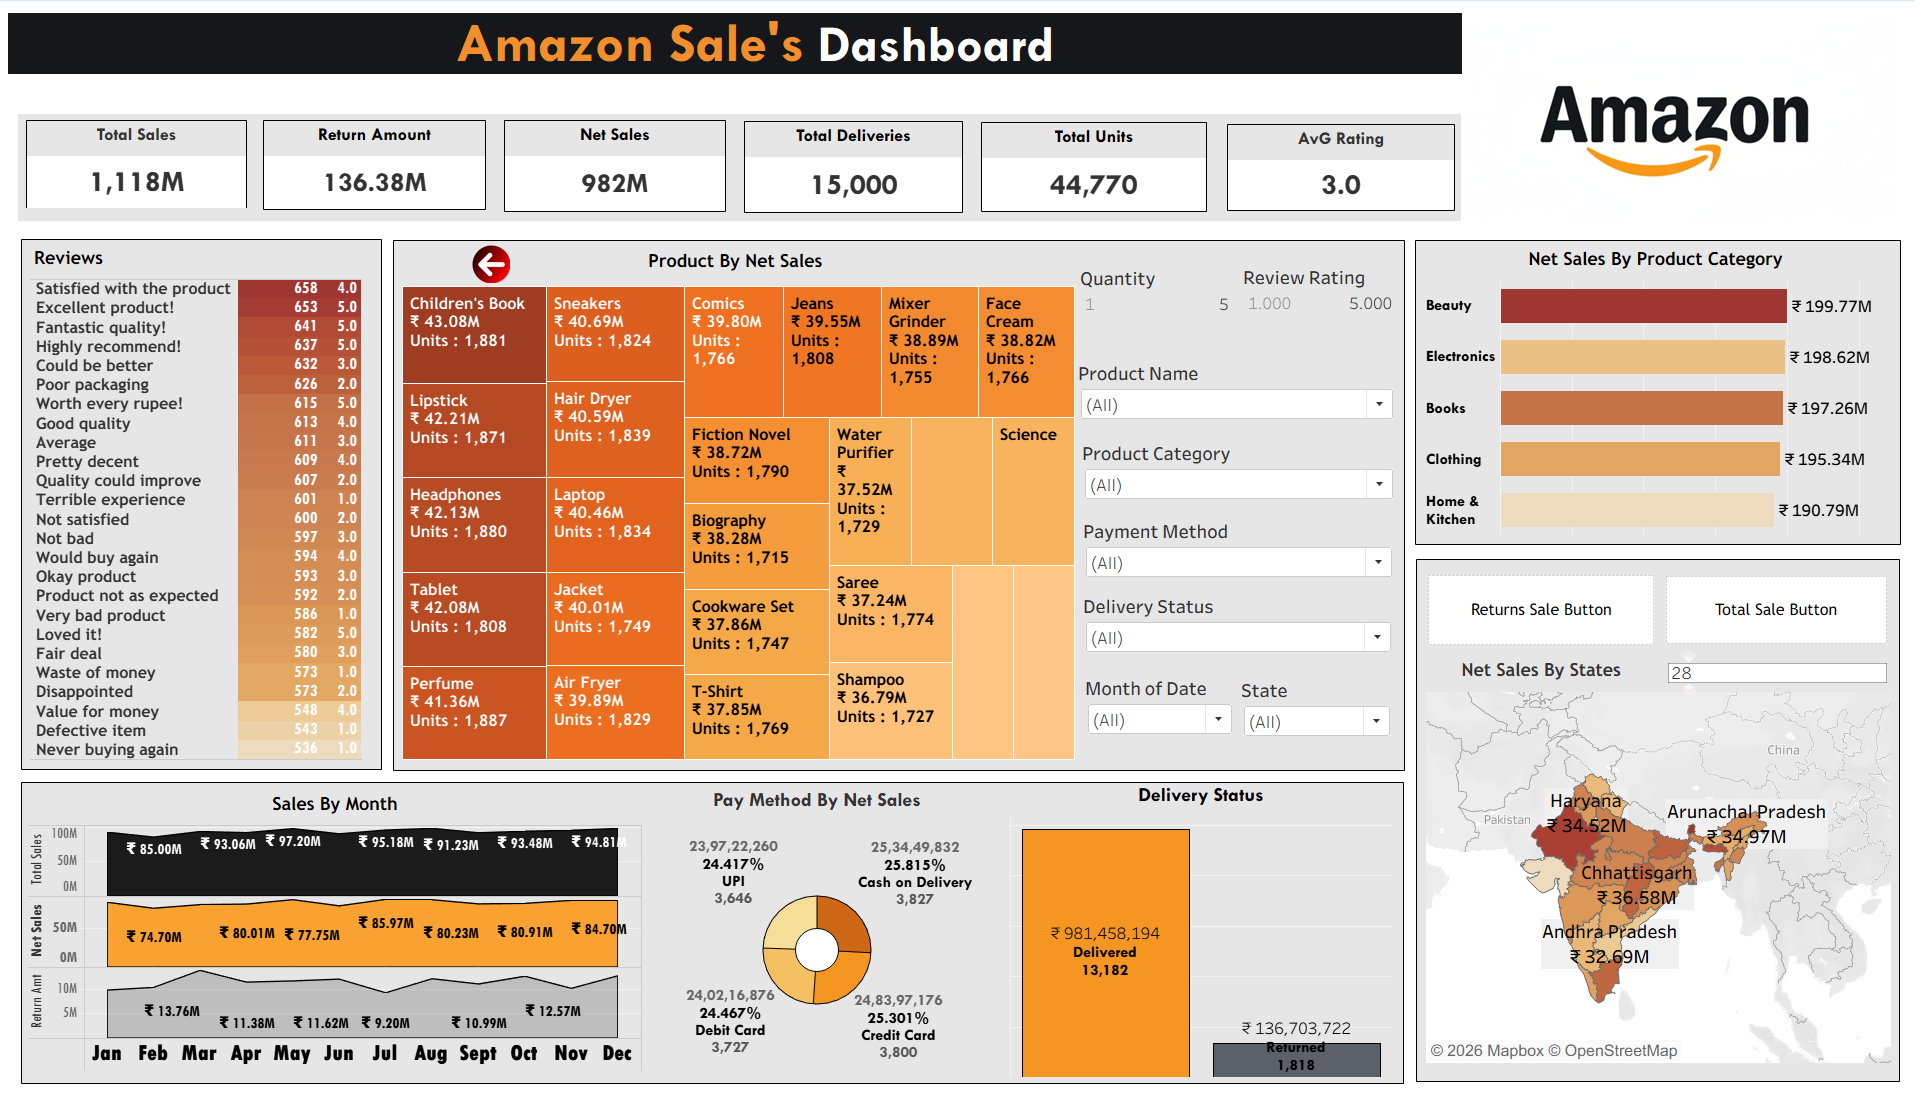

The dashboard page shown, as its layout file describes it:
{"tool":"tableau","page":{"name":"Dashboard 1","canvas":[1000,1000],"units":"permille","ordinal":0},"visuals":[{"type":"title","box":[4.2,9.2,991.5,79.7]},{"type":"blank","box":[763.7,9.2,231.9,75.1]},{"type":"image","param":"C:/Softwares Downloads/WhatsApp Image 2026-01-01 at 7.28.01 PM.jpeg","box":[765,12.7,226.9,192.8]},{"type":"blank","box":[11.7,102.8,751.3,98.2]},{"type":"worksheet","title":"Total Sales Card","mark":"Automatic","box":[15.4,108.5,115.3,80.8]},{"type":"worksheet","title":"Return Amt Card","mark":"Automatic","box":[139.2,108.5,116.4,82]},{"type":"worksheet","title":"Net Sale Card","mark":"Automatic","box":[264.6,108.5,115.8,84.3]},{"type":"worksheet","title":"Total Deliveries","mark":"Automatic","box":[389.5,109.7,114.2,84.3]},{"type":"worksheet","title":"Total Units Card","mark":"Automatic","box":[513.3,110.9,118,82]},{"type":"worksheet","title":"AvG Rating","mark":"Text","box":[641.3,112,118.5,79.7]},{"type":"blank","box":[13.3,217.1,188.1,485]},{"type":"blank","box":[206.7,218.2,527.1,485]},{"type":"blank","box":[739.1,218.2,252.9,278.3]},{"type":"worksheet","title":"Reviews","mark":"Square","rows":["Review_Text"],"box":[17.5,220.6,183.3,472.3]},{"type":"worksheet","title":"Bar Chrat Category","mark":"Bar","rows":["Product_Category"],"cols":["Net_Sales_INR"],"box":[741.8,221.7,245.5,266.7]},{"type":"dashboard-object","box":[212.5,222.9,91.4,34.6]},{"type":"worksheet","title":"Product Net Sales","mark":"Automatic","box":[209.3,224,354.4,473.4]},{"type":"filter","title":"AvG Rating","param":"[federated.0d4y05914wde501gqro5j0xemp7q].[none:Review_Rating:qk]","box":[649.3,240.2,81.3,84.3]},{"type":"filter","title":"AvG Rating","param":"[federated.0d4y05914wde501gqro5j0xemp7q].[none:Quantity:qk]","box":[564.8,241.3,81.3,64.7]},{"type":"filter","title":"AvG Rating","param":"[federated.0d4y05914wde501gqro5j0xemp7q].[none:Product_Name:nk]","box":[563.6,327.9,165.8,70.4]},{"type":"filter","title":"AvG Rating","param":"[federated.0d4y05914wde501gqro5j0xemp7q].[none:Product_Category:nk]","box":[565.5,400.7,163.3,72.8]},{"type":"filter","title":"AvG Rating","param":"[federated.0d4y05914wde501gqro5j0xemp7q].[none:Payment_Method:nk]","box":[566.1,472.3,162.7,67]},{"type":"blank","box":[739.6,509.2,251.9,478.1]},{"type":"dashboard-object","box":[746,524.2,118,63.5]},{"type":"dashboard-object","box":[869.7,525.4,115.3,62.4]},{"type":"filter","title":"AvG Rating","param":"[federated.0d4y05914wde501gqro5j0xemp7q].[none:Delivery_Status:nk]","box":[565.9,540.4,162.1,67]},{"type":"worksheet","title":"Net Sale ( Map )","mark":"Automatic","box":[744.4,597,243.1,384.5]},{"type":"parameter","param":"[Parameters].[Parameter 1]","box":[869.3,601.6,117.4,34.6]},{"type":"filter","title":"AvG Rating","param":"[federated.0d4y05914wde501gqro5j0xemp7q].[mn:Date:ok]","box":[567,615.5,78.1,79.7]},{"type":"filter","title":"AvG Rating","param":"[federated.0d4y05914wde501gqro5j0xemp7q].[none:State:nk]","box":[648.4,617.8,79.2,72.8]},{"type":"worksheet","title":"Delivery Status","mark":"Bar","rows":["Total_Sales_INR"],"cols":["Delivery_Status"],"box":[528,711.3,198.9,271.4]},{"type":"blank","box":[13.3,713.6,720.5,276]},{"type":"worksheet","title":"Pay_Method ( NetSales )","mark":"Pie","rows":["Calculation_509751205955792897","Calculation_509751205956026371"],"box":[294.4,715.9,266.7,267.9]},{"type":"worksheet","title":"Sales By Month","mark":"Area","rows":["Total_Sales_INR","Net_Sales_INR","Return Amount_INR"],"cols":["Date"],"box":[16.8,719.4,319.8,258.7]}]}

Visuals, with their boxes on the dashboard's canvas, which has no fixed pixel size, in thousandths of its width and height (x1, y1, x2, y2). These are canvas units, not pixel positions in the 1915x1096 screenshot, which may show the page scaled, cropped or inside an application window:
title: BBox(4, 9, 996, 89)
blank: BBox(764, 9, 996, 84)
image: BBox(765, 13, 992, 206)
blank: BBox(12, 103, 763, 201)
"Total Sales Card" worksheet: BBox(15, 108, 131, 189)
"Return Amt Card" worksheet: BBox(139, 108, 256, 190)
"Net Sale Card" worksheet: BBox(265, 108, 380, 193)
"Total Deliveries" worksheet: BBox(390, 110, 504, 194)
"Total Units Card" worksheet: BBox(513, 111, 631, 193)
"AvG Rating" worksheet (Text marks): BBox(641, 112, 760, 192)
blank: BBox(13, 217, 201, 702)
blank: BBox(207, 218, 734, 703)
blank: BBox(739, 218, 992, 496)
"Reviews" worksheet (Square marks): BBox(18, 221, 201, 693)
"Bar Chrat Category" worksheet (Bar marks): BBox(742, 222, 987, 488)
dashboard-object: BBox(212, 223, 304, 258)
"Product Net Sales" worksheet: BBox(209, 224, 564, 697)
"AvG Rating" filter: BBox(649, 240, 731, 324)
"AvG Rating" filter: BBox(565, 241, 646, 306)
"AvG Rating" filter: BBox(564, 328, 729, 398)
"AvG Rating" filter: BBox(566, 401, 729, 474)
"AvG Rating" filter: BBox(566, 472, 729, 539)
blank: BBox(740, 509, 992, 987)
dashboard-object: BBox(746, 524, 864, 588)
dashboard-object: BBox(870, 525, 985, 588)
"AvG Rating" filter: BBox(566, 540, 728, 607)
"Net Sale ( Map )" worksheet: BBox(744, 597, 988, 982)
parameter: BBox(869, 602, 987, 636)
"AvG Rating" filter: BBox(567, 616, 645, 695)
"AvG Rating" filter: BBox(648, 618, 728, 691)
"Delivery Status" worksheet (Bar marks): BBox(528, 711, 727, 983)
blank: BBox(13, 714, 734, 990)
"Pay_Method ( NetSales )" worksheet (Pie marks): BBox(294, 716, 561, 984)
"Sales By Month" worksheet (Area marks): BBox(17, 719, 337, 978)
